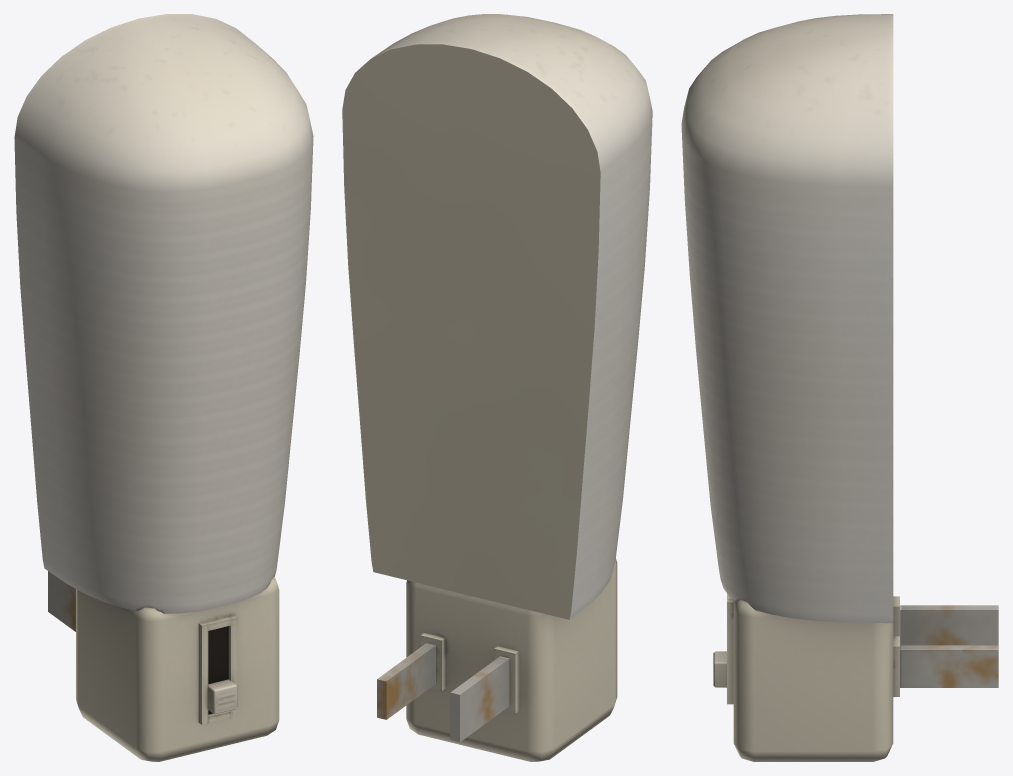
The model's file is NightLight.fbx.
3 views of the same model, side by side, from view 1: azimuth 30°, elevation 25°; view 2: azimuth 150°, elevation 25°; view 3: azimuth 270°, elevation 25° (orthographic). The views are drawn at different scales.
Visible parts, largest first — view 1: NightLight_Shade, NightLight_Base, NightLight_Switch; view 2: NightLight_Shade, NightLight_Base; view 3: NightLight_Shade, NightLight_Base.
Boxes of the visible parts, left/top/right/bottom form: NightLight_Shade: left=14, top=14, right=313, bottom=613; NightLight_Base: left=48, top=571, right=279, bottom=761; NightLight_Switch: left=207, top=679, right=237, bottom=714; NightLight_Shade: left=342, top=14, right=652, bottom=619; NightLight_Base: left=377, top=558, right=617, bottom=761; NightLight_Shade: left=681, top=14, right=893, bottom=623; NightLight_Base: left=727, top=594, right=998, bottom=761.
Size of the model in its own units: 0.2024 by 0.529 by 0.2168.
Materials: 1 (1 with a texture image).
